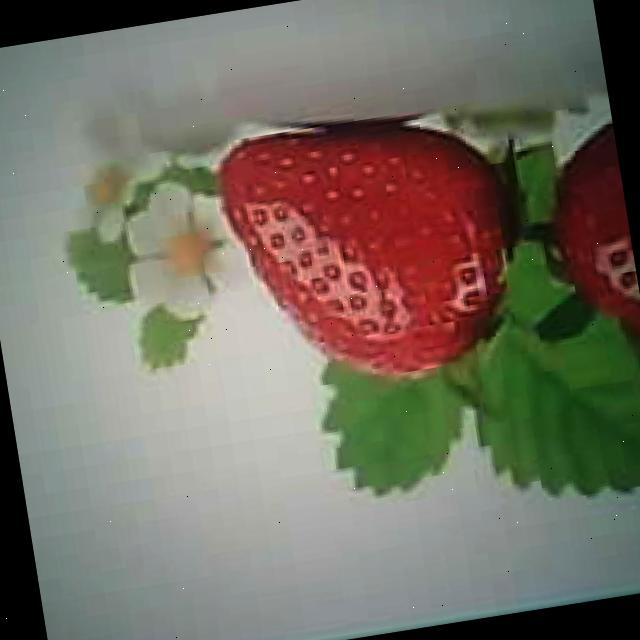strawberry: (212, 96, 538, 401)
